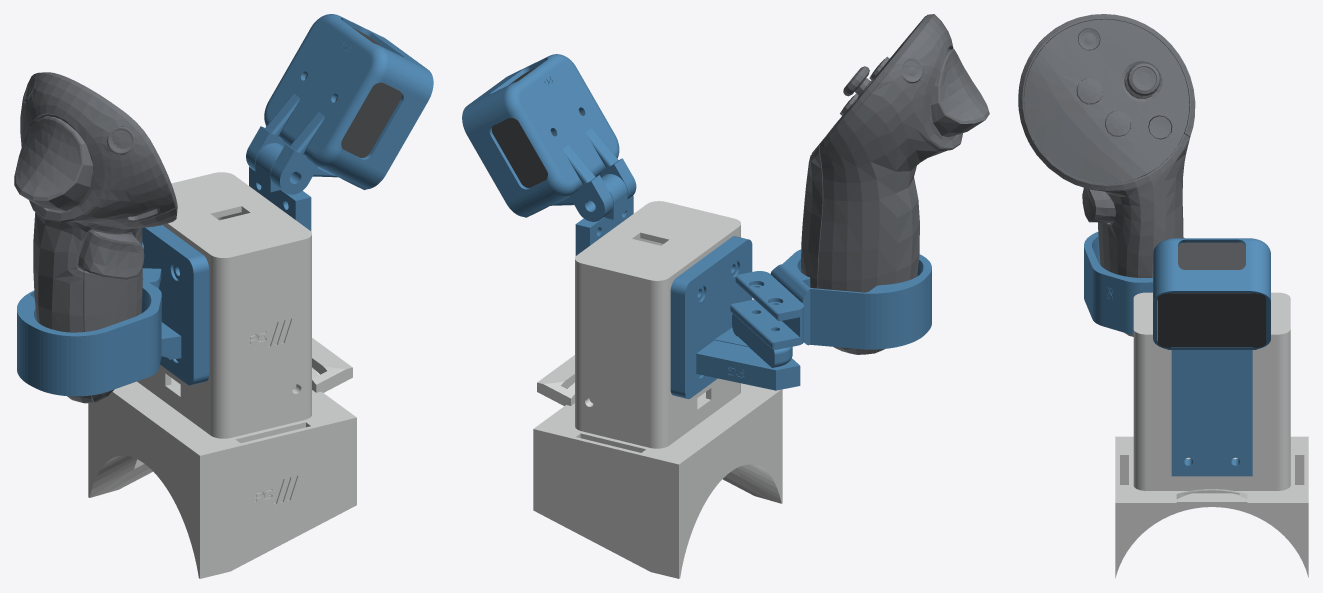
The model's file is hand.glb.
3 renders of one model, left to right at view 1: azimuth 30°, elevation 25°; view 2: azimuth 150°, elevation 25°; view 3: azimuth 270°, elevation 25°, orthographic. The views are drawn at different scales.
Parts seen in each view (by area): view 1: ebox_wrist_saddle, quest_controller_envelope, ebox, d405_cup, quest_support_right, quest_arm_right, d405_envelope, d405_frame_hand; view 2: quest_controller_envelope, ebox_wrist_saddle, ebox, d405_cup, quest_support_right, quest_arm_right, d405_envelope, d405_frame_hand; view 3: quest_controller_envelope, ebox, d405_frame_hand, ebox_wrist_saddle, d405_envelope, d405_cup, quest_support_right.
Part boxes in pixels (x1,y1,x2,y2): ebox_wrist_saddle: [88, 338, 356, 578]; quest_controller_envelope: [14, 72, 177, 403]; ebox: [142, 172, 311, 433]; d405_cup: [246, 14, 433, 194]; quest_support_right: [17, 268, 161, 396]; quest_arm_right: [142, 225, 209, 385]; d405_envelope: [305, 28, 401, 157]; d405_frame_hand: [249, 143, 311, 231]; quest_controller_envelope: [801, 14, 989, 354]; ebox_wrist_saddle: [533, 355, 782, 578]; ebox: [575, 201, 740, 443]; d405_cup: [462, 54, 636, 221]; quest_support_right: [730, 249, 931, 350]; quest_arm_right: [670, 236, 800, 399]; d405_envelope: [492, 67, 581, 187]; d405_frame_hand: [575, 174, 633, 255]; quest_controller_envelope: [1018, 14, 1195, 336]; ebox: [1133, 292, 1290, 486]; d405_frame_hand: [1171, 350, 1252, 476]; ebox_wrist_saddle: [1115, 436, 1308, 578]; d405_envelope: [1158, 242, 1266, 347]; d405_cup: [1153, 238, 1270, 349]; quest_support_right: [1084, 232, 1184, 334].
Size of the model in its own units: 0.1768 by 0.1978 by 0.1112.
